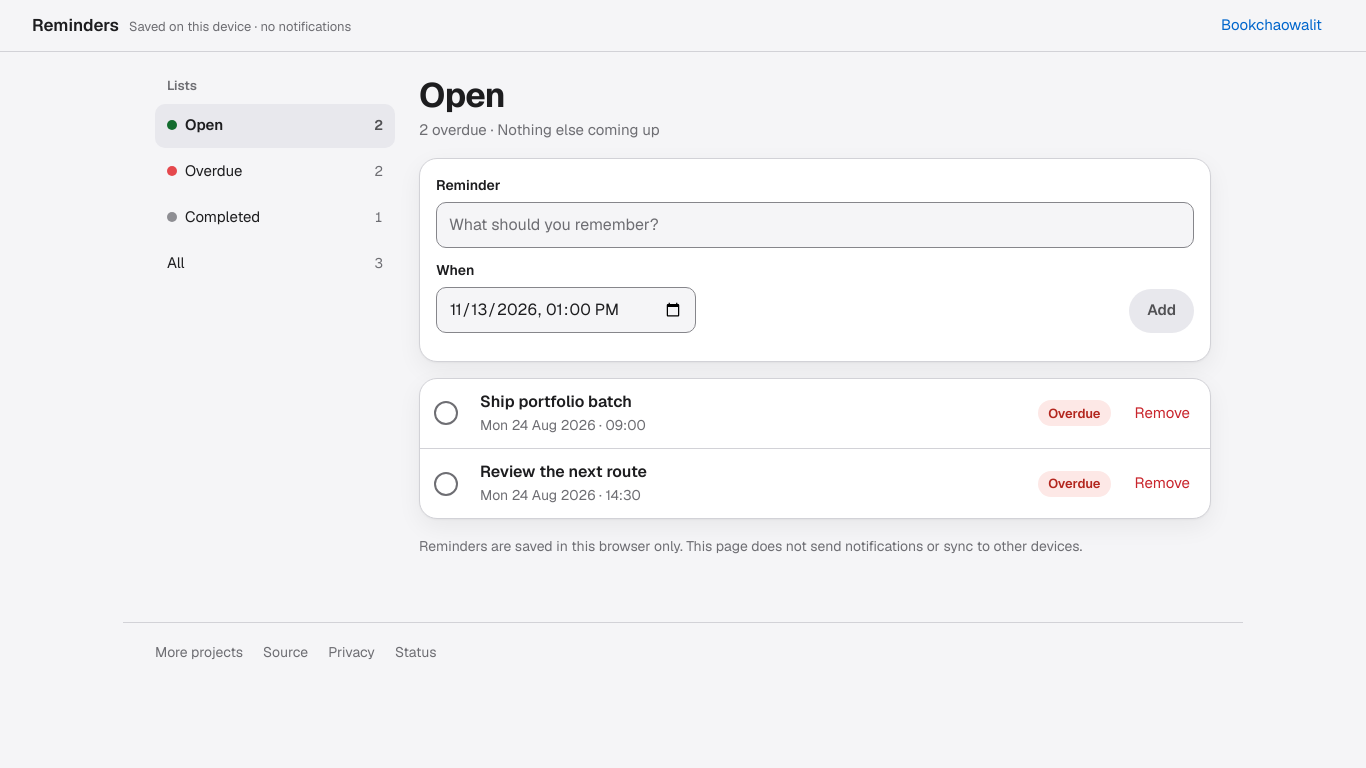
Test case: adding from a list that would hide the new reminder › a mouse resting on the Undo toast keeps it open; leaving restarts the countdown
Click the button with aria-label "Remove Ship portfolio batch": (1162, 413) [1123,391,1202,435]
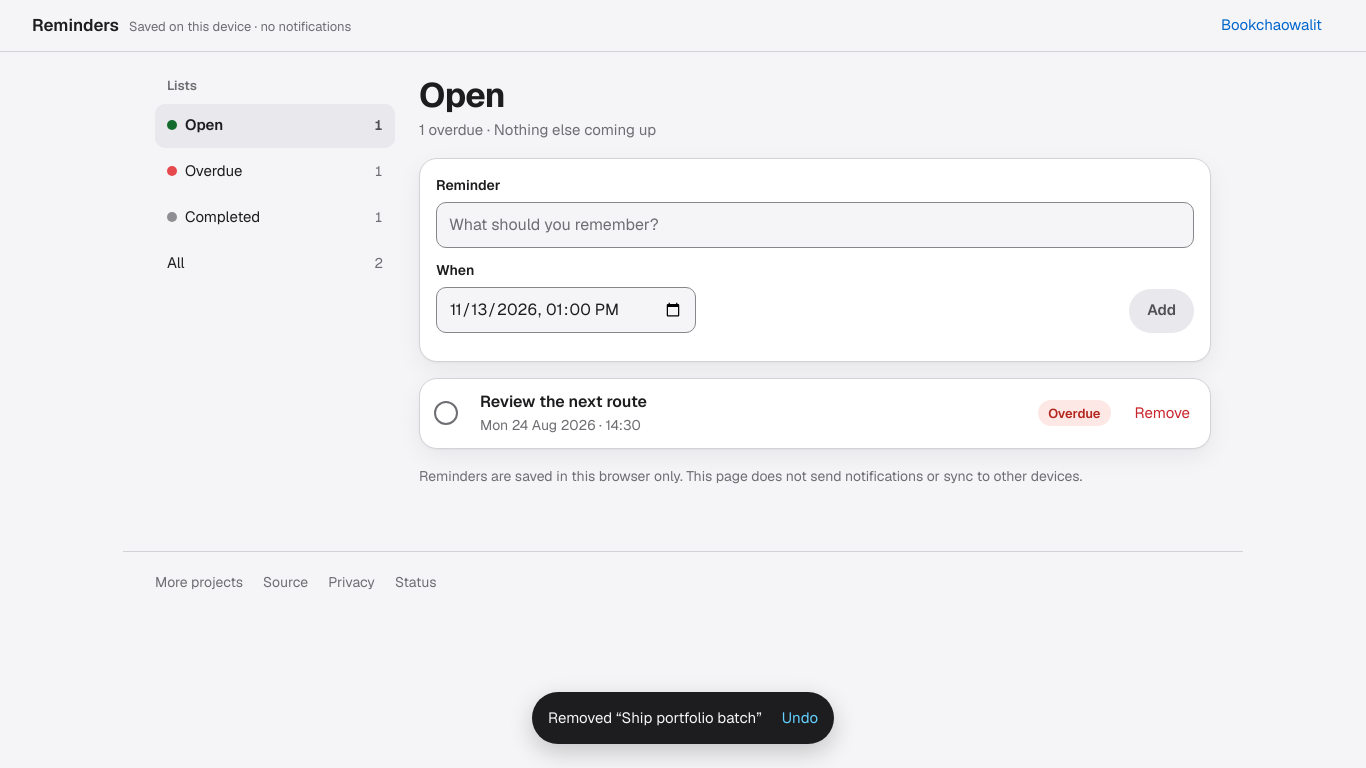
Hover over the element with class "as-toast": (683, 718) [532,692,834,744]
expect the element with class "as-toast" is shown: met
Move the pointer off the element with class "as-toast", box [532,692,834,744]
Wait 6000 ms
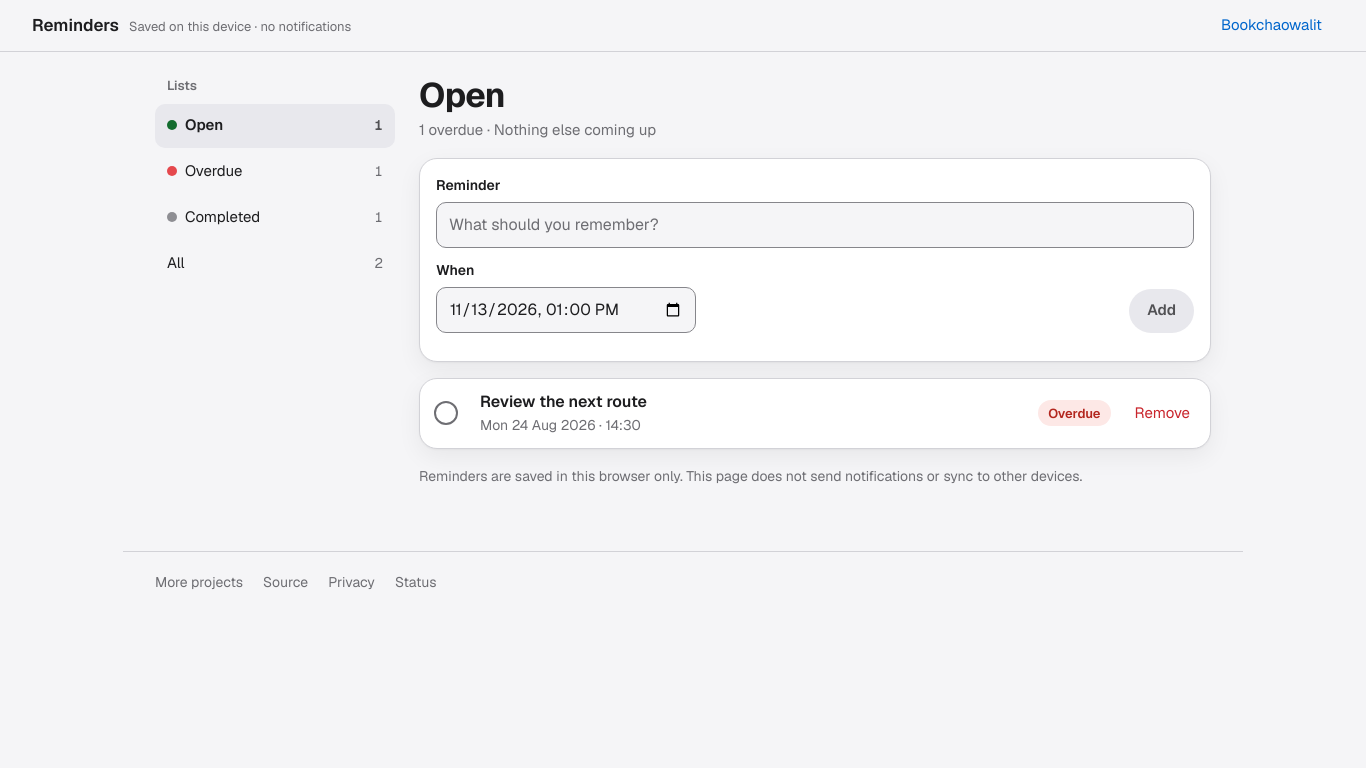
expect the element with class "as-toast" is gone: met
